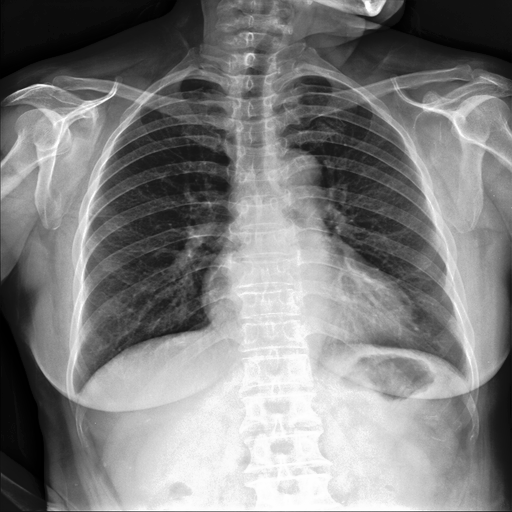Calcification: (65, 383, 82, 401)
Consolidation: (272, 150, 320, 190)
Nodule/Mass: (198, 268, 414, 340)
Pleural effusion: (65, 383, 82, 401)
